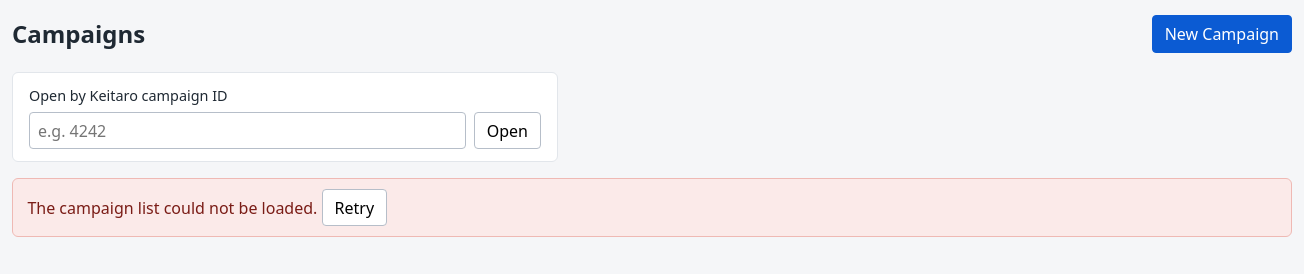
Test: CampaignListPage › shows a failure state with Retry when the list cannot be loaded
Expected: the text "The campaign list could not be loaded. Retry" is shown, [12,178,1292,237]
Click the button "Retry" at (354, 208), box [322,189,387,226]
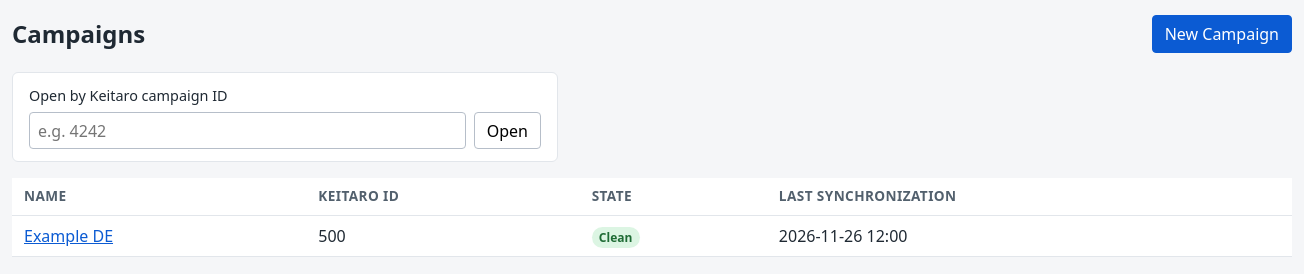
Now the link "Example DE" is shown, box [24,225,113,247]
